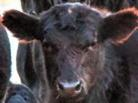muzzles: (52, 77, 86, 100)
